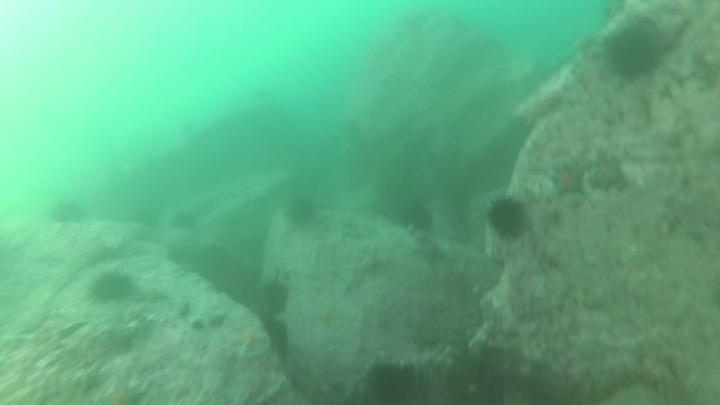echinus: (598, 20, 667, 85), (364, 360, 420, 404), (484, 193, 530, 242), (87, 267, 137, 306), (394, 198, 436, 235), (47, 196, 91, 229), (259, 316, 292, 359), (259, 277, 293, 318), (283, 193, 320, 230), (168, 208, 201, 235)
starfish: (585, 152, 631, 196), (546, 159, 590, 202), (230, 319, 266, 358), (96, 380, 150, 404), (413, 238, 450, 270)
